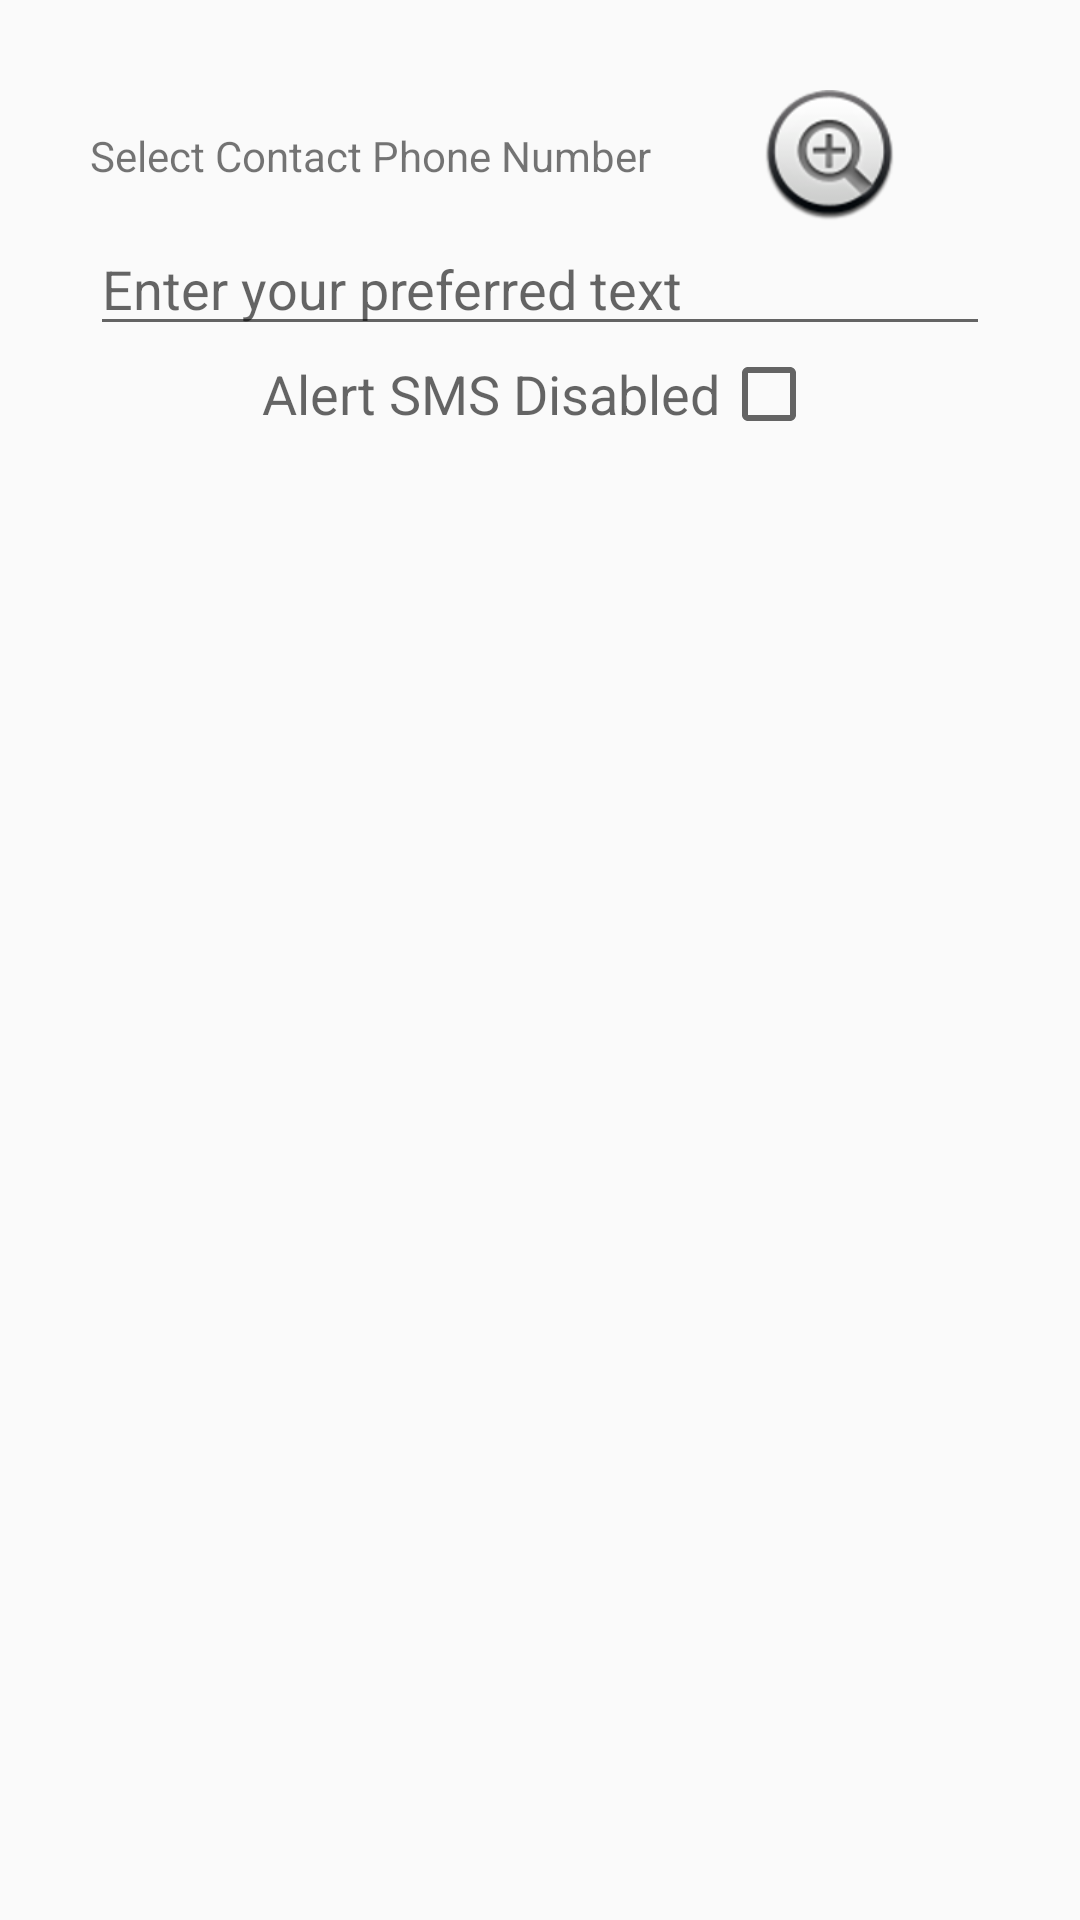

Screen size 1080*1920. Icon name, then its center in pixels as [x,y]:
plus: [829,154]
